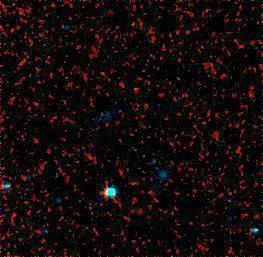star: (123, 75, 153, 105)
